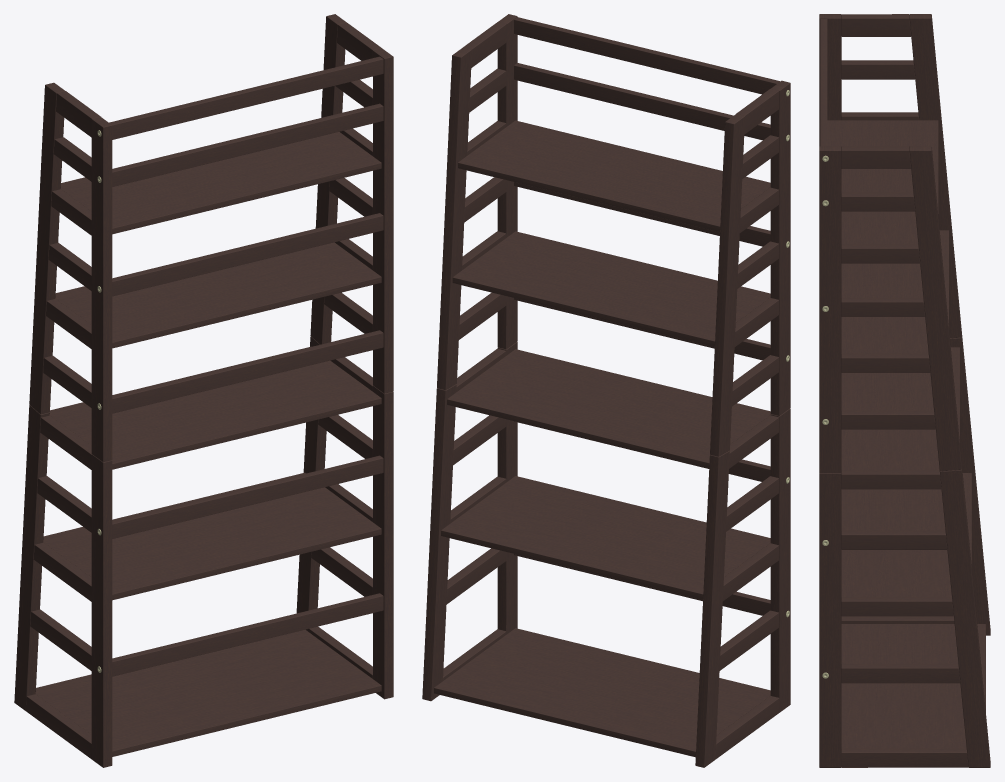
File: abo_B07DMHTGJD.glb
3 views of the same model, side by side, from view 1: azimuth 30°, elevation 25°; view 2: azimuth 150°, elevation 25°; view 3: azimuth 270°, elevation 25° (orthographic). The views are drawn at different scales.
Visible parts, largest first — view 1: RootNode; view 2: RootNode; view 3: RootNode.
Boxes of the visible parts, bbox=[...] form: RootNode: bbox=[14, 14, 393, 767]; RootNode: bbox=[422, 14, 790, 767]; RootNode: bbox=[819, 14, 990, 767].
Bounding box in the file's own units: 0.763 × 1.6 × 0.4027.
1 material, 1 textured.
